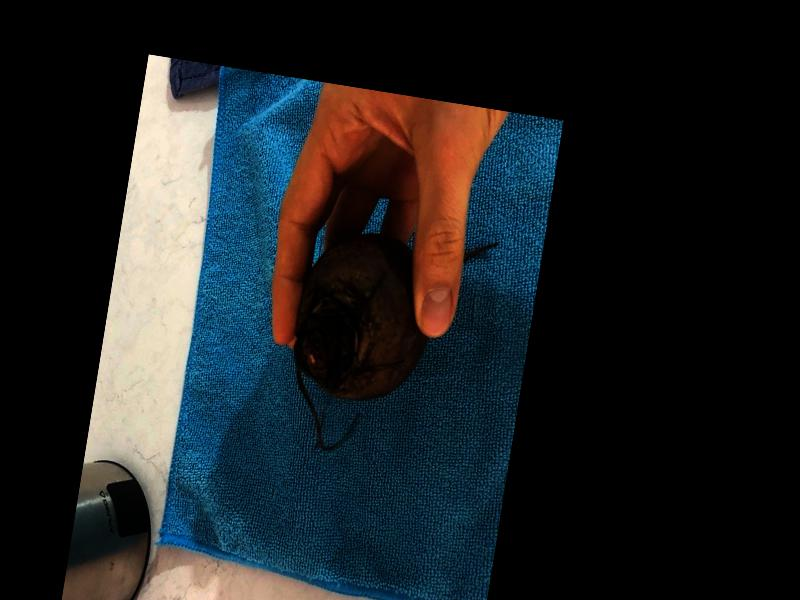Beet: (278, 214, 497, 470)
